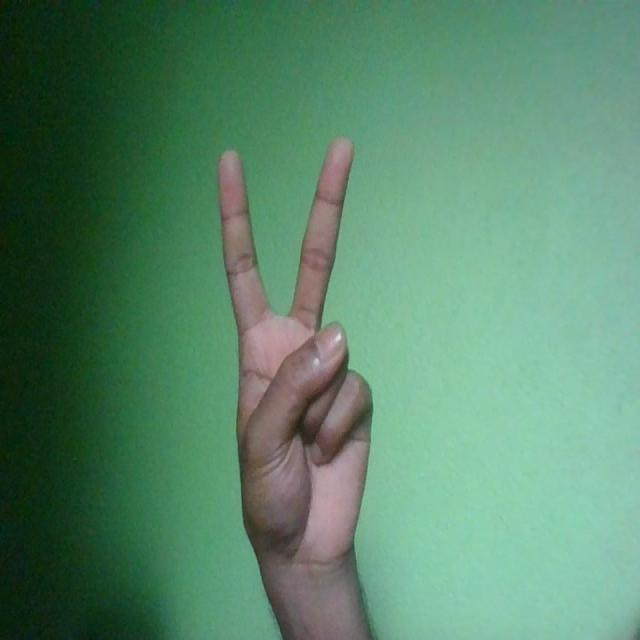Fist: (218, 135, 373, 573)
